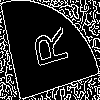R: (25, 25, 69, 73)
